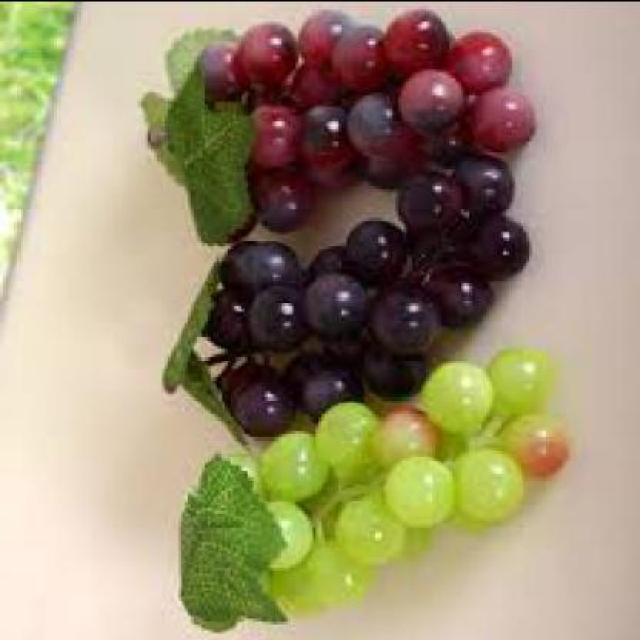BIODEGRADABLE: (182, 350, 563, 618), (160, 162, 528, 430), (142, 11, 532, 242)
